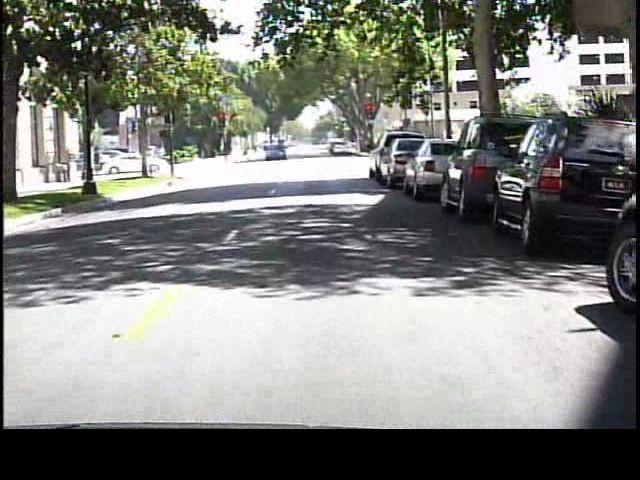person: (238, 143, 252, 165)
